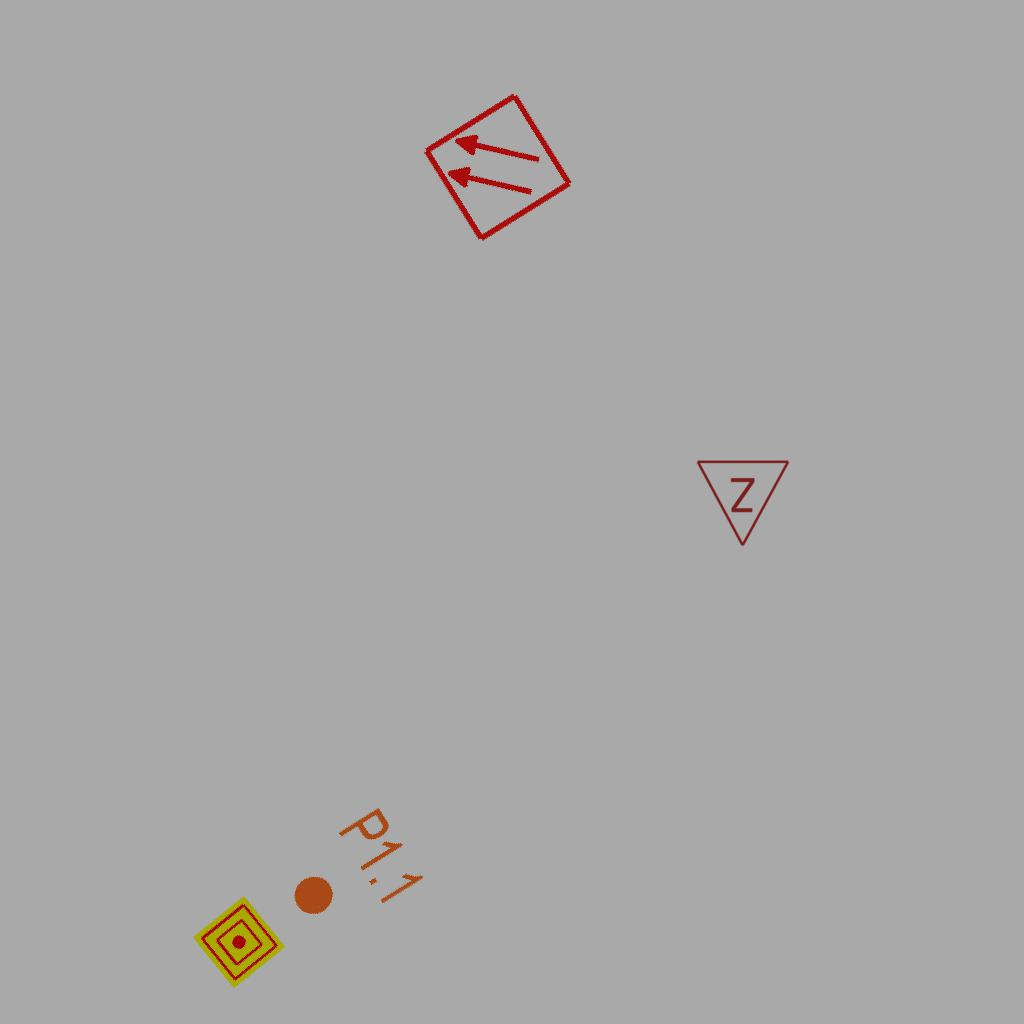Downlight_LED_Einbauleuchten_Flur: (271, 802, 430, 950)
NAM-Nichtautomatischer_Melder: (192, 895, 286, 989)
RMO_Rauchmelder_optischer: (419, 89, 576, 246)
Zimmersignalleuchte: (695, 453, 793, 553)
